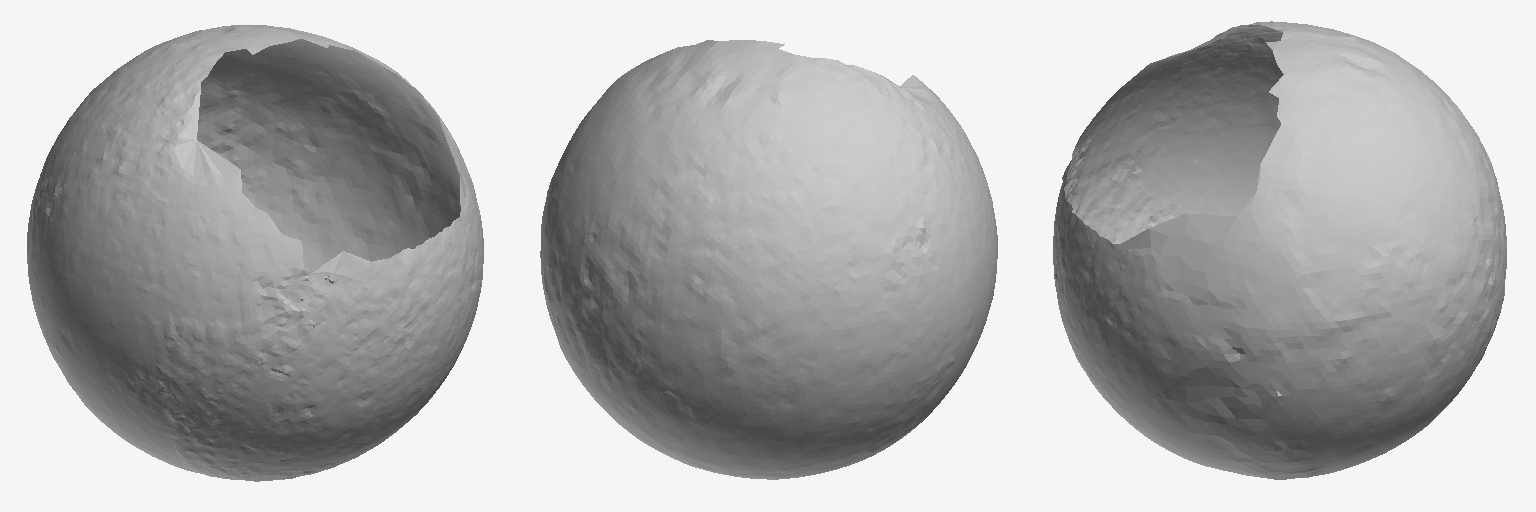
Rendered from Gridtest_0_2_2.000001.obj.
3 renders of one model, left to right at view 1: azimuth 30°, elevation 25°; view 2: azimuth 150°, elevation 25°; view 3: azimuth 270°, elevation 25°, orthographic.
Bounding box in the file's own units: 300 × 303 × 297.